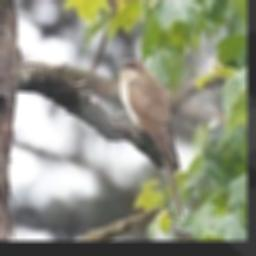Cuckoo: (114, 59, 183, 218)
